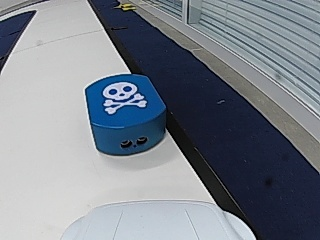danger: (104, 83, 143, 113)
